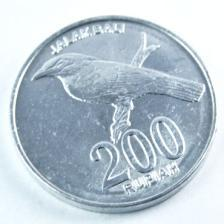coin_200_e2003: (9, 14, 217, 216)
